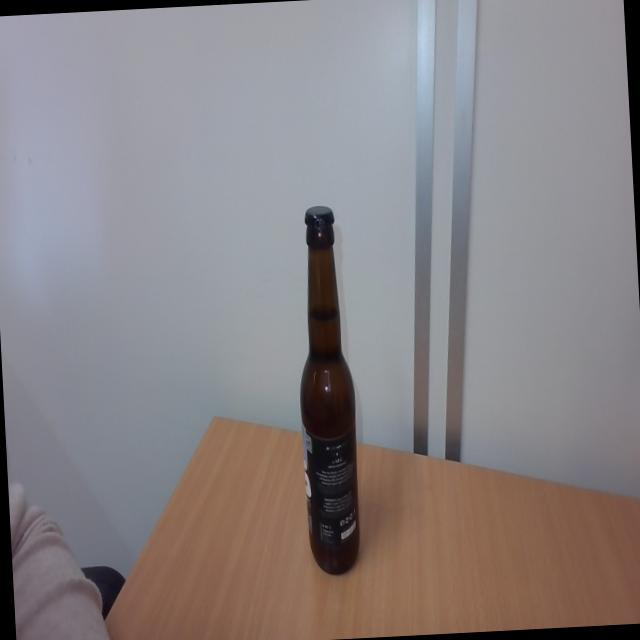Bottle: (291, 228, 363, 576)
Cap: (302, 202, 336, 233)
Label: (300, 427, 362, 549)
